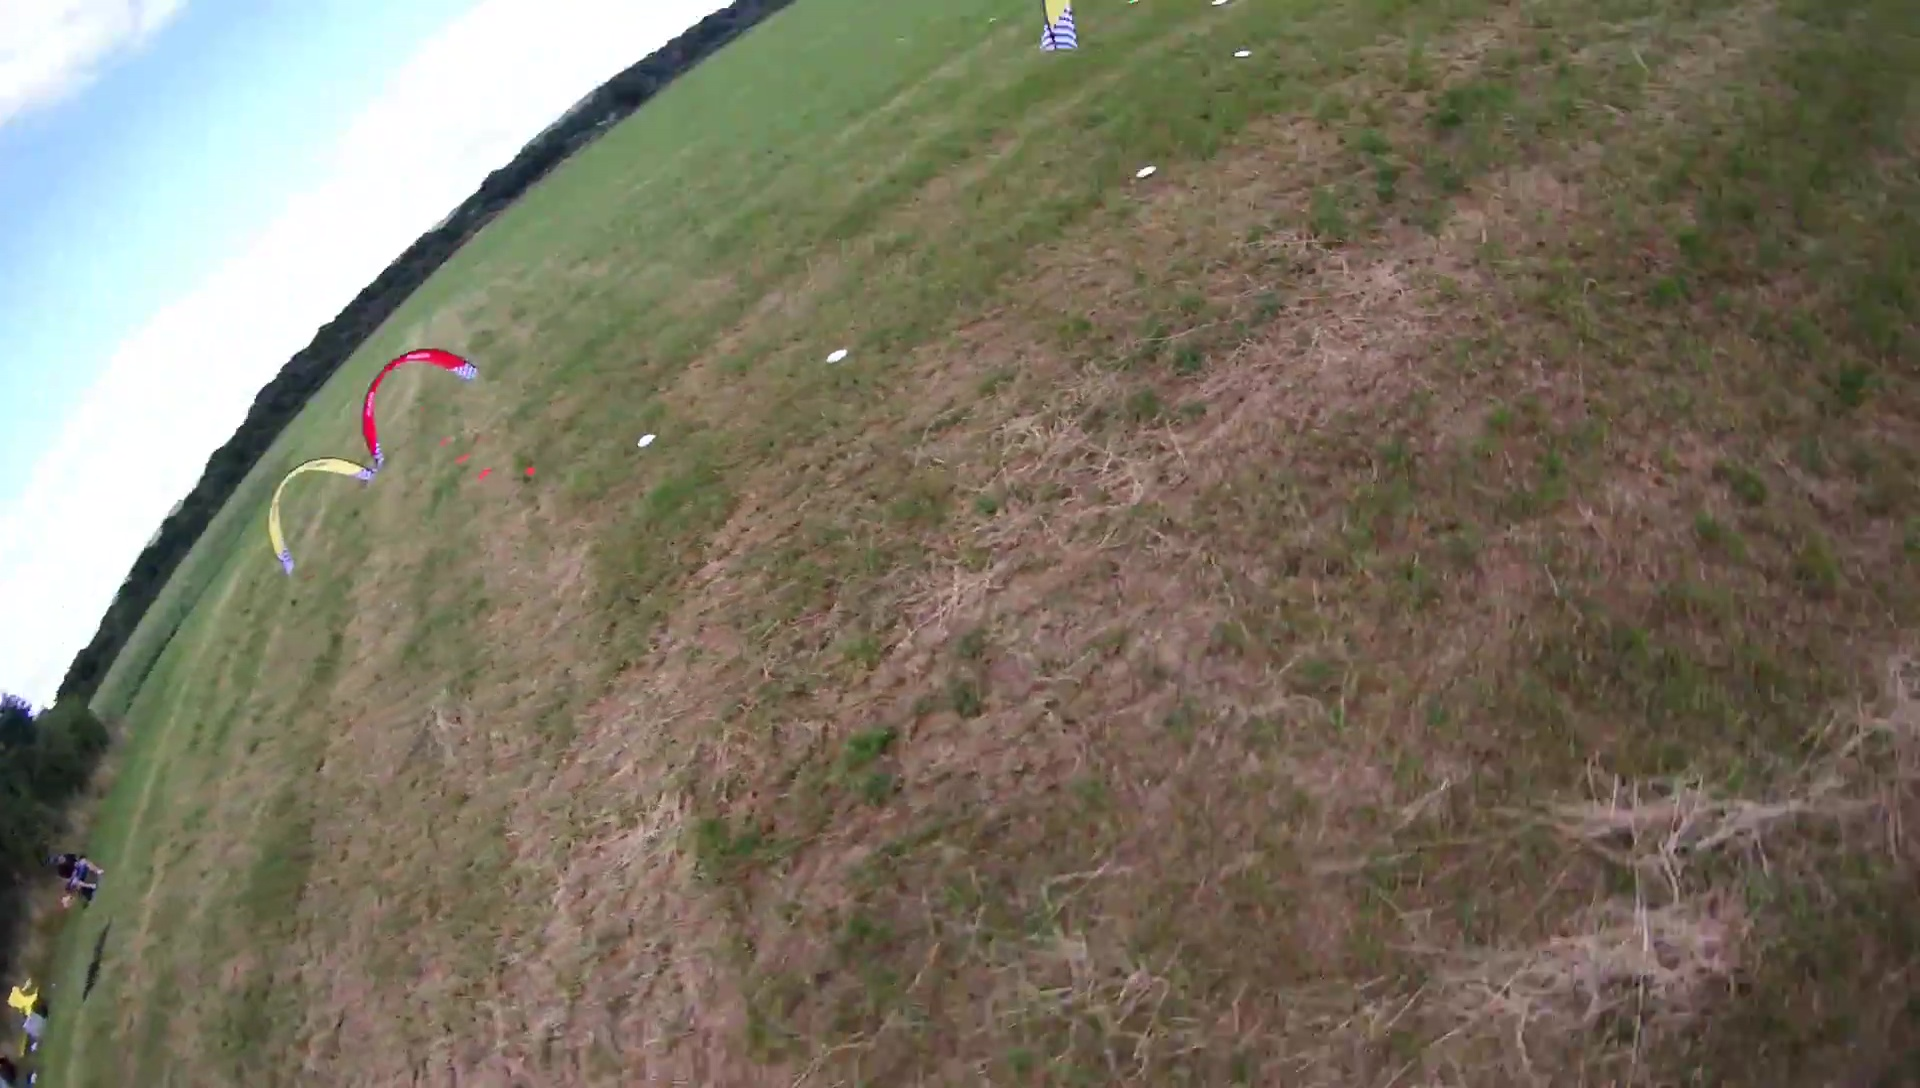gate: (360, 346, 481, 466), (266, 458, 380, 580)
